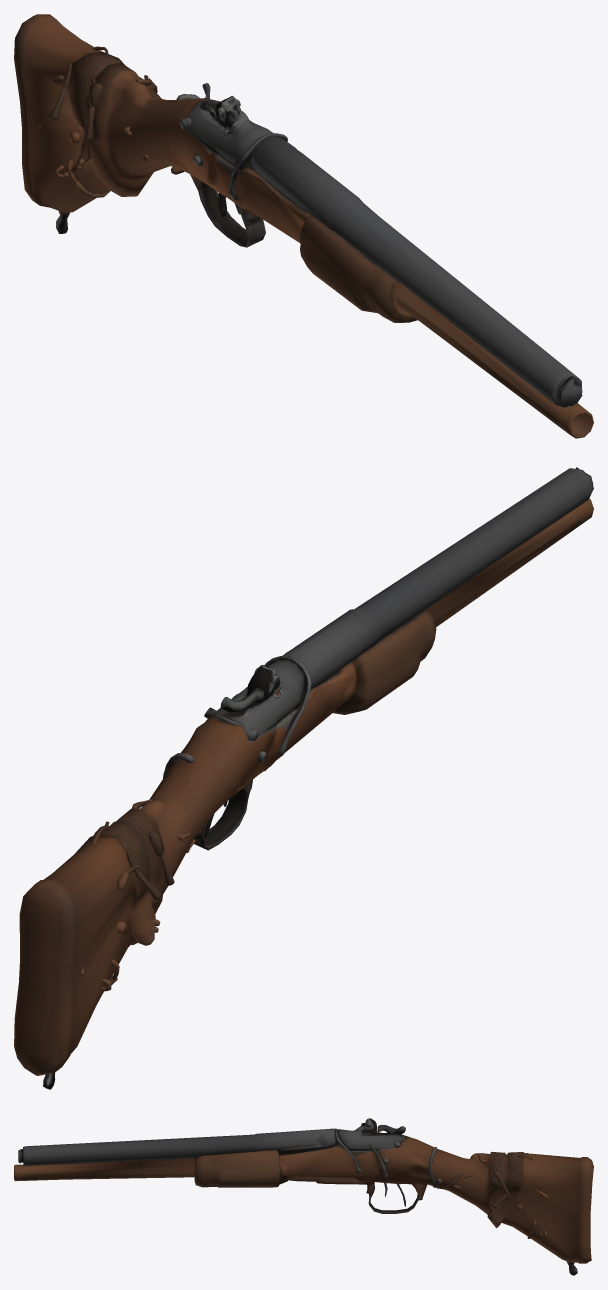
Rendered from pipe_shotgun.glb.
3 views of the same model, one above another, from view 1: azimuth 30°, elevation 25°; view 2: azimuth 150°, elevation 25°; view 3: azimuth 270°, elevation 25° (orthographic). The views are drawn at different scales.
Parts seen in each view (by area): view 1: tripo_node_e2c4ad8a-247b-4492-8196-25d86; view 2: tripo_node_e2c4ad8a-247b-4492-8196-25d86; view 3: tripo_node_e2c4ad8a-247b-4492-8196-25d86.
Boxes of the visible parts, x1,y1,x2,y2 form: tripo_node_e2c4ad8a-247b-4492-8196-25d86: [14, 14, 593, 438]; tripo_node_e2c4ad8a-247b-4492-8196-25d86: [14, 467, 593, 1089]; tripo_node_e2c4ad8a-247b-4492-8196-25d86: [14, 1118, 593, 1275].
Size of the model in its own units: 0.1039 by 0.258 by 0.9.
Materials: 1 (1 with a texture image).
